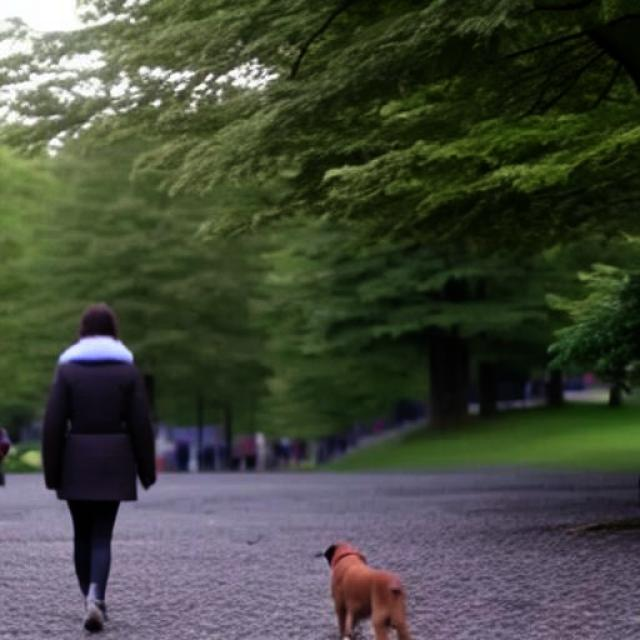Unleashed_Dog: (94, 445, 412, 640)
